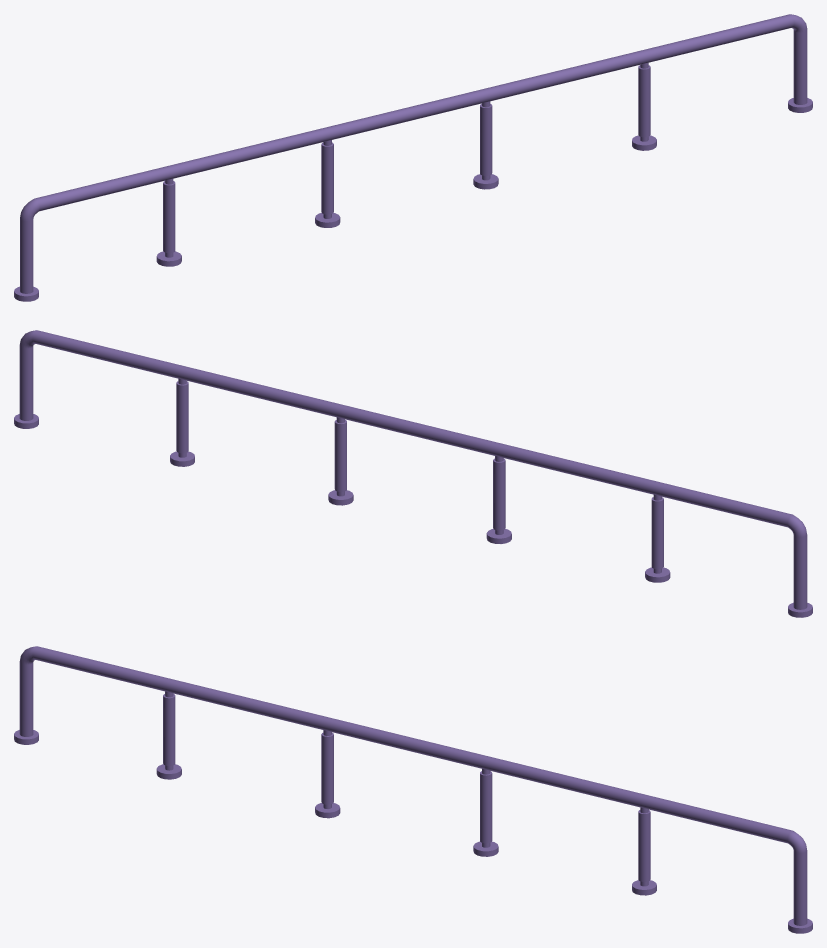
Rendered from Railings.fbx.
3 views of the same model, one above another, from view 1: azimuth 30°, elevation 25°; view 2: azimuth 150°, elevation 25°; view 3: azimuth 330°, elevation 25° (orthographic).
Parts seen in each view (by area): view 1: Railings; view 2: Railings; view 3: Railings.
Boxes of the visible parts, x1,y1,x2,y2 form: Railings: (14, 14, 812, 301); Railings: (14, 330, 812, 617); Railings: (14, 646, 812, 933).
Bounding box in the file's own units: 403 × 46.18 × 10.78.
